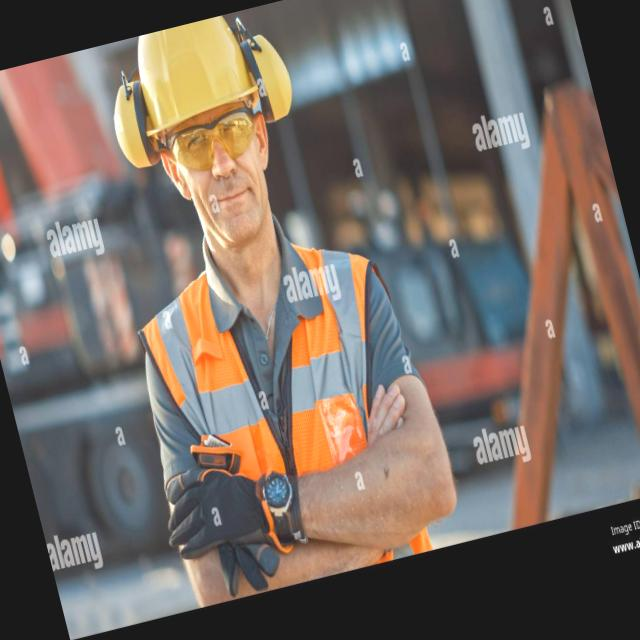goggles: (150, 98, 274, 186)
helmet: (120, 10, 268, 142)
vest: (119, 216, 459, 606)
